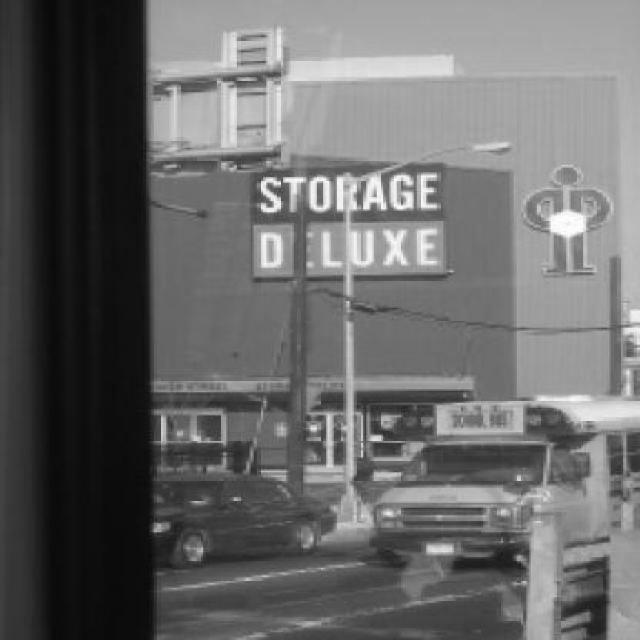Bus- Small: (368, 397, 640, 571)
